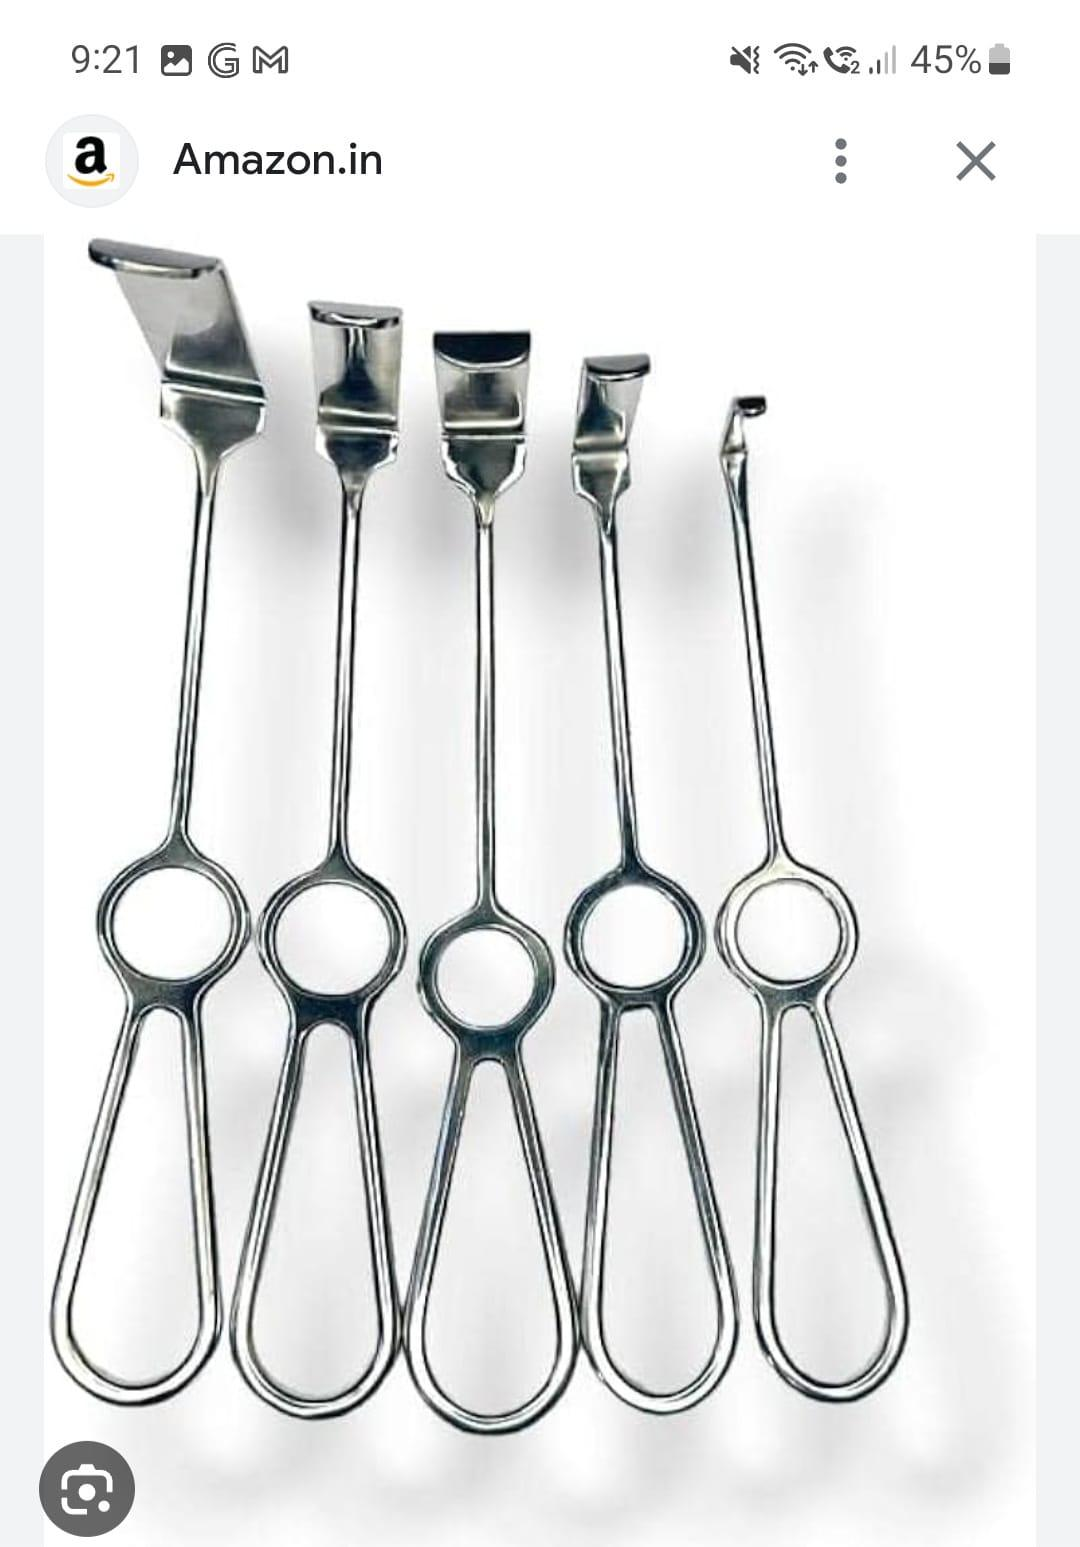Langenbach Retractor: (228, 280, 435, 1415), (55, 215, 242, 1409), (412, 313, 577, 1440), (563, 337, 730, 1402)
